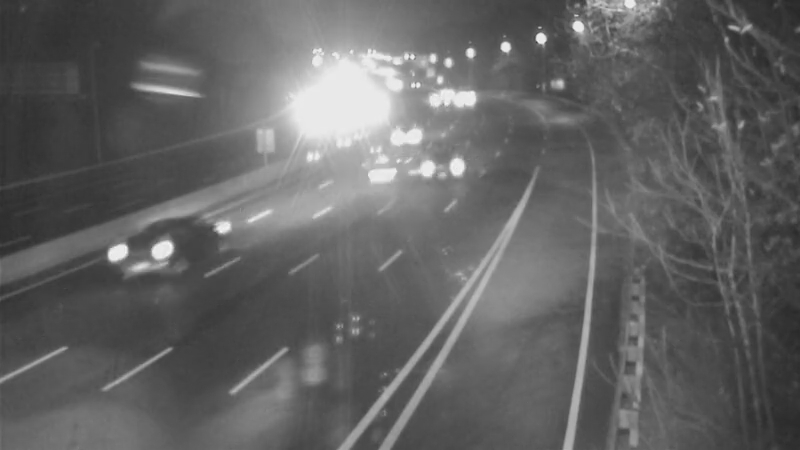vehicle: (408, 125, 488, 205), (105, 212, 185, 292), (380, 106, 430, 156)
